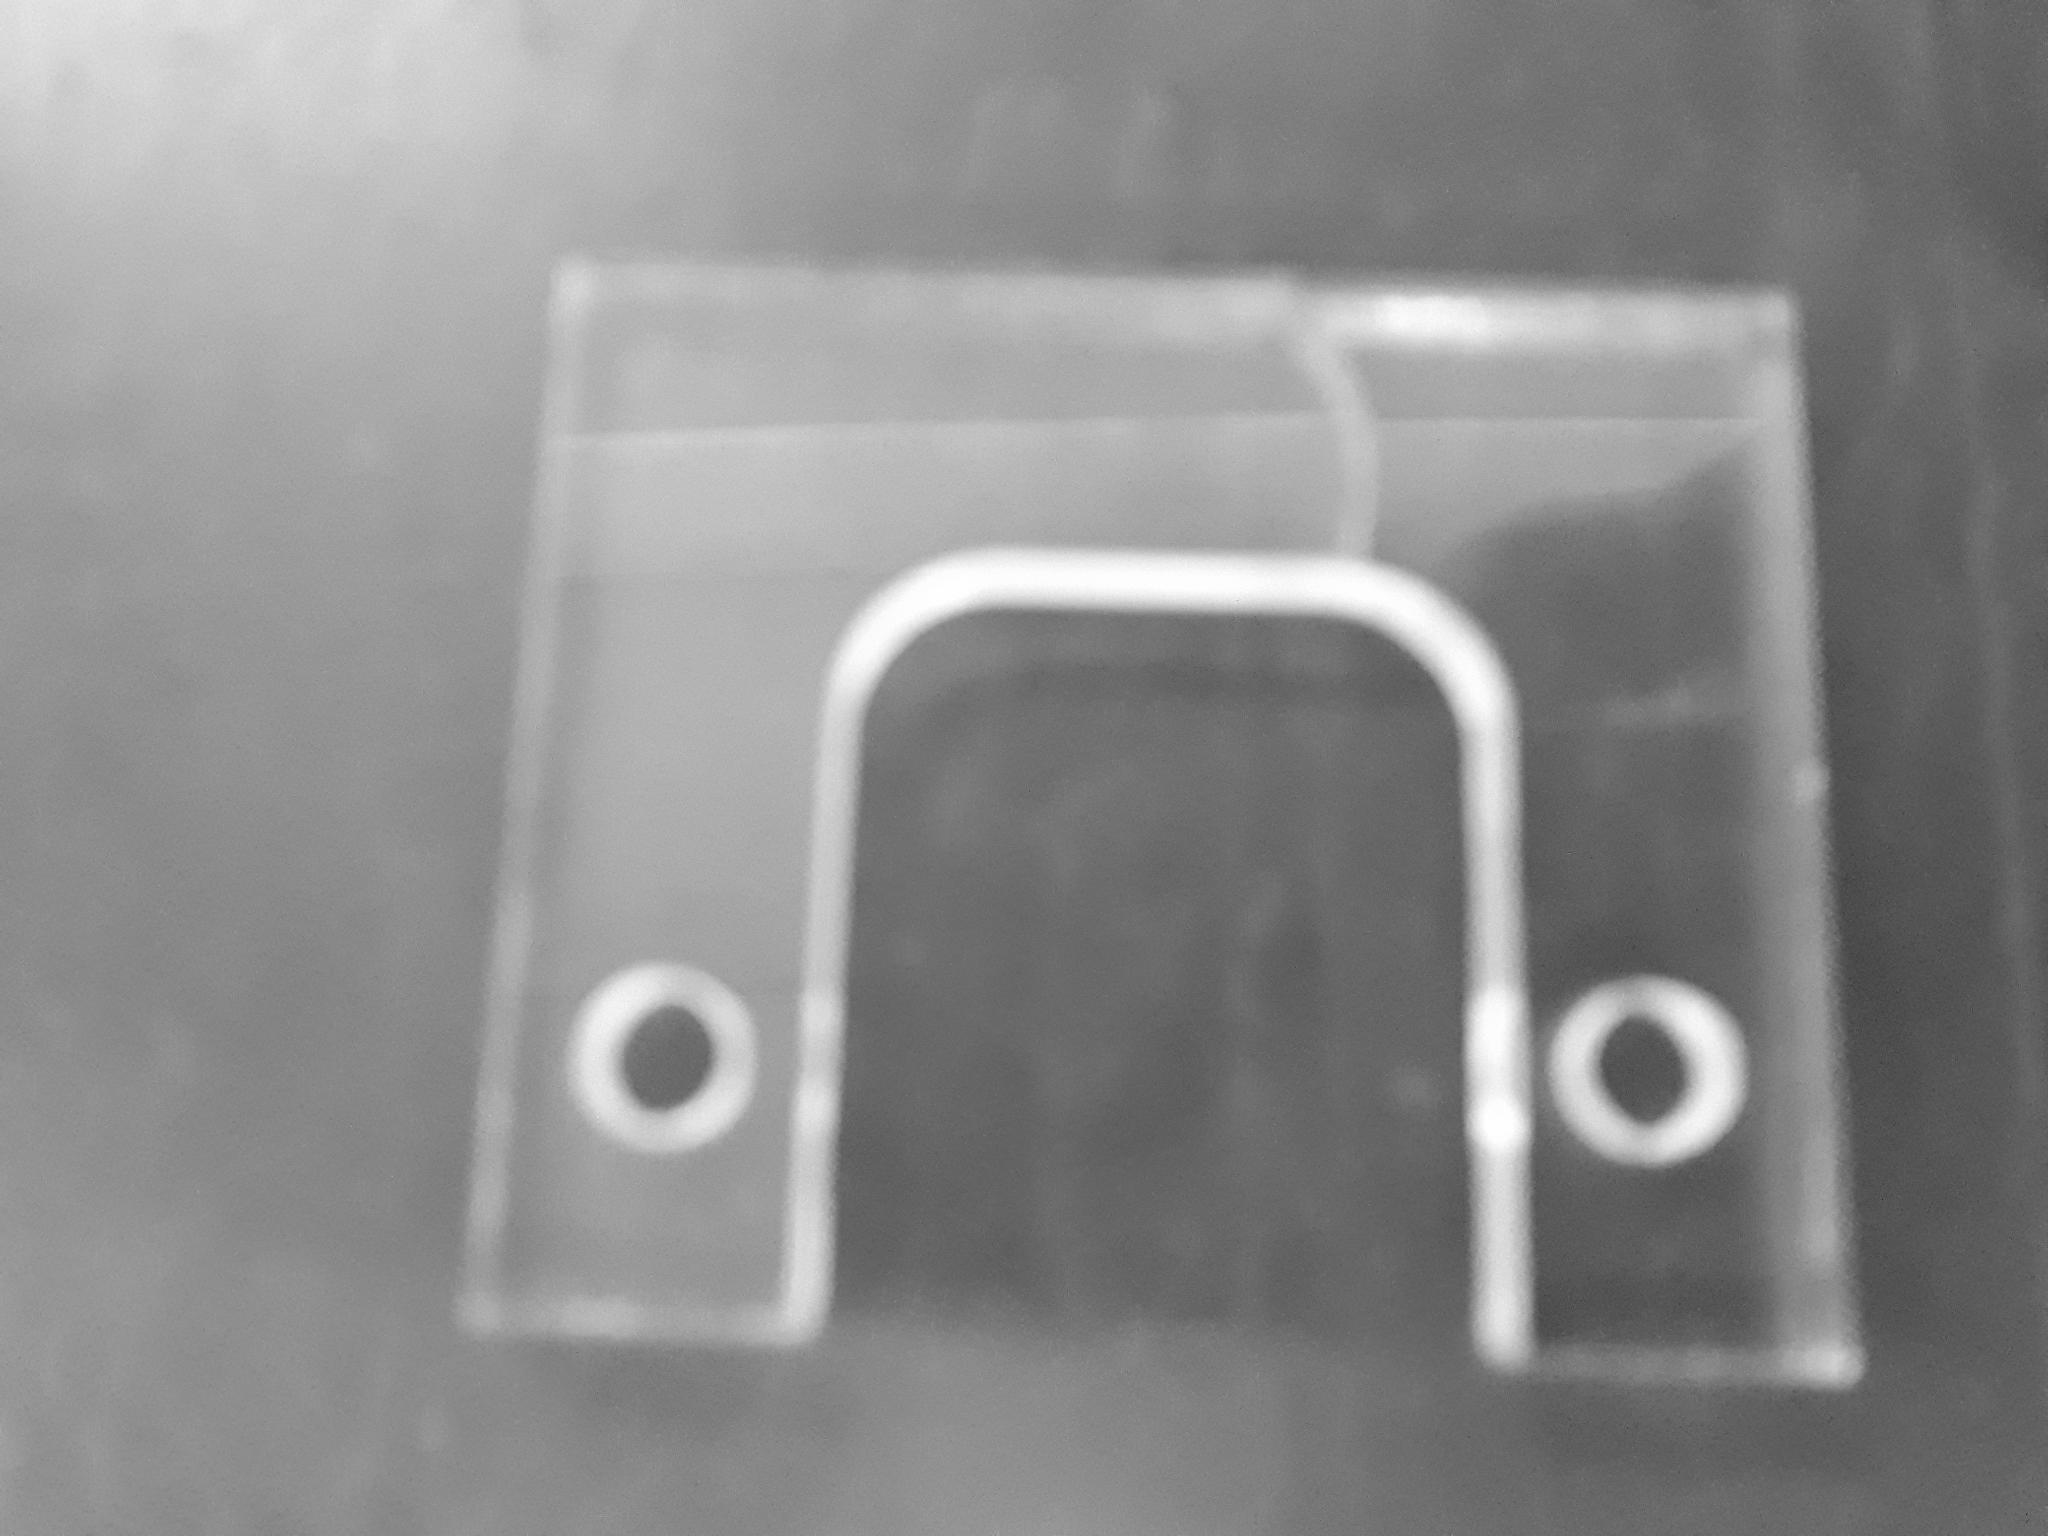Shape_45: (184, 470, 1282, 1536), (381, 812, 989, 1512)
